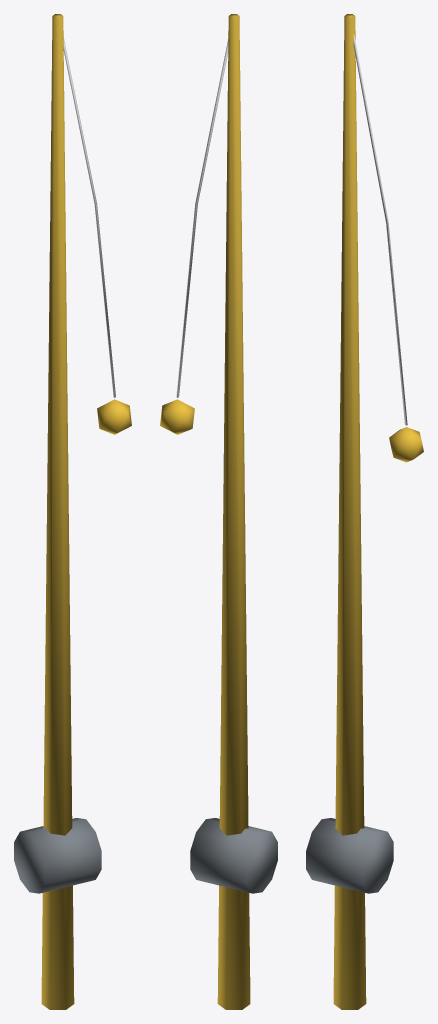
Rendered from sitting_ducks_fishing_pole.glb.
3 views of the same model, side by side, from view 1: azimuth 30°, elevation 25°; view 2: azimuth 150°, elevation 25°; view 3: azimuth 330°, elevation 25° (orthographic).
Visible parts, largest first — view 1: sitting_ducks_fishing_pole_v0; view 2: sitting_ducks_fishing_pole_v0; view 3: sitting_ducks_fishing_pole_v0.
Boxes of the visible parts, <box> form: sitting_ducks_fishing_pole_v0: <box>14,14,131,1009</box>; sitting_ducks_fishing_pole_v0: <box>160,14,277,1009</box>; sitting_ducks_fishing_pole_v0: <box>306,14,423,1009</box>.
Size of the model in its own units: 0.1061 by 1 by 0.0571.
